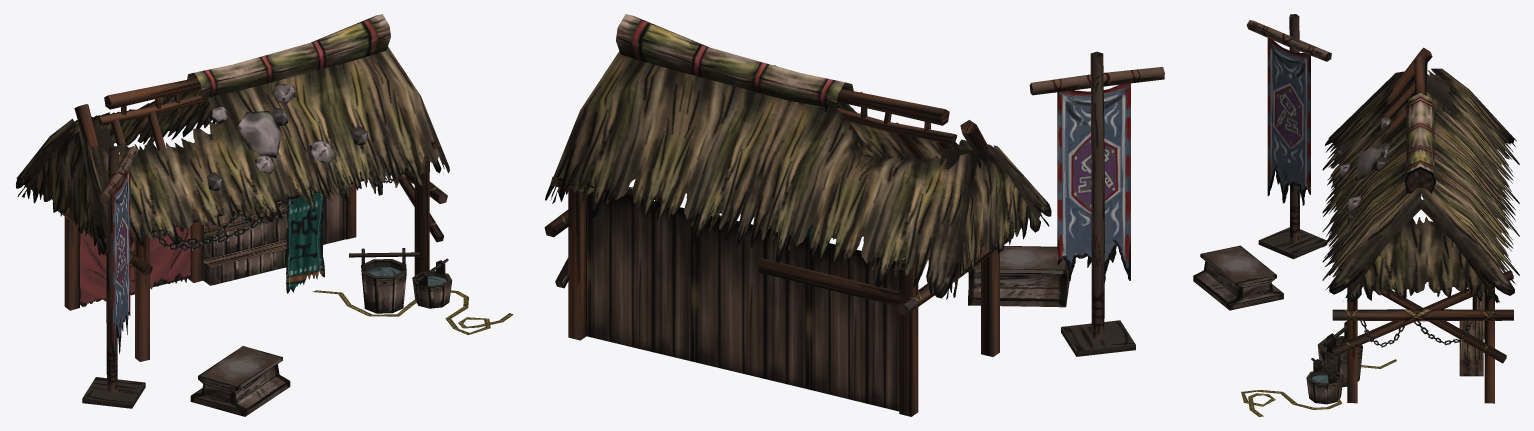
Rendered from STR_ShopUpgrade.FBX.
3 renders of one model, left to right at view 1: azimuth 30°, elevation 25°; view 2: azimuth 150°, elevation 25°; view 3: azimuth 270°, elevation 25°, orthographic. The views are drawn at different scales.
Visible parts, largest first — view 1: STR_ShopUpgrade; view 2: STR_ShopUpgrade; view 3: STR_ShopUpgrade.
Boxes of the visible parts, left/top/right/bottom form: STR_ShopUpgrade: left=16, top=14, right=513, bottom=416; STR_ShopUpgrade: left=544, top=14, right=1164, bottom=416; STR_ShopUpgrade: left=1193, top=14, right=1519, bottom=416.
Bounding box in the file's own units: 807 × 466 × 588.
